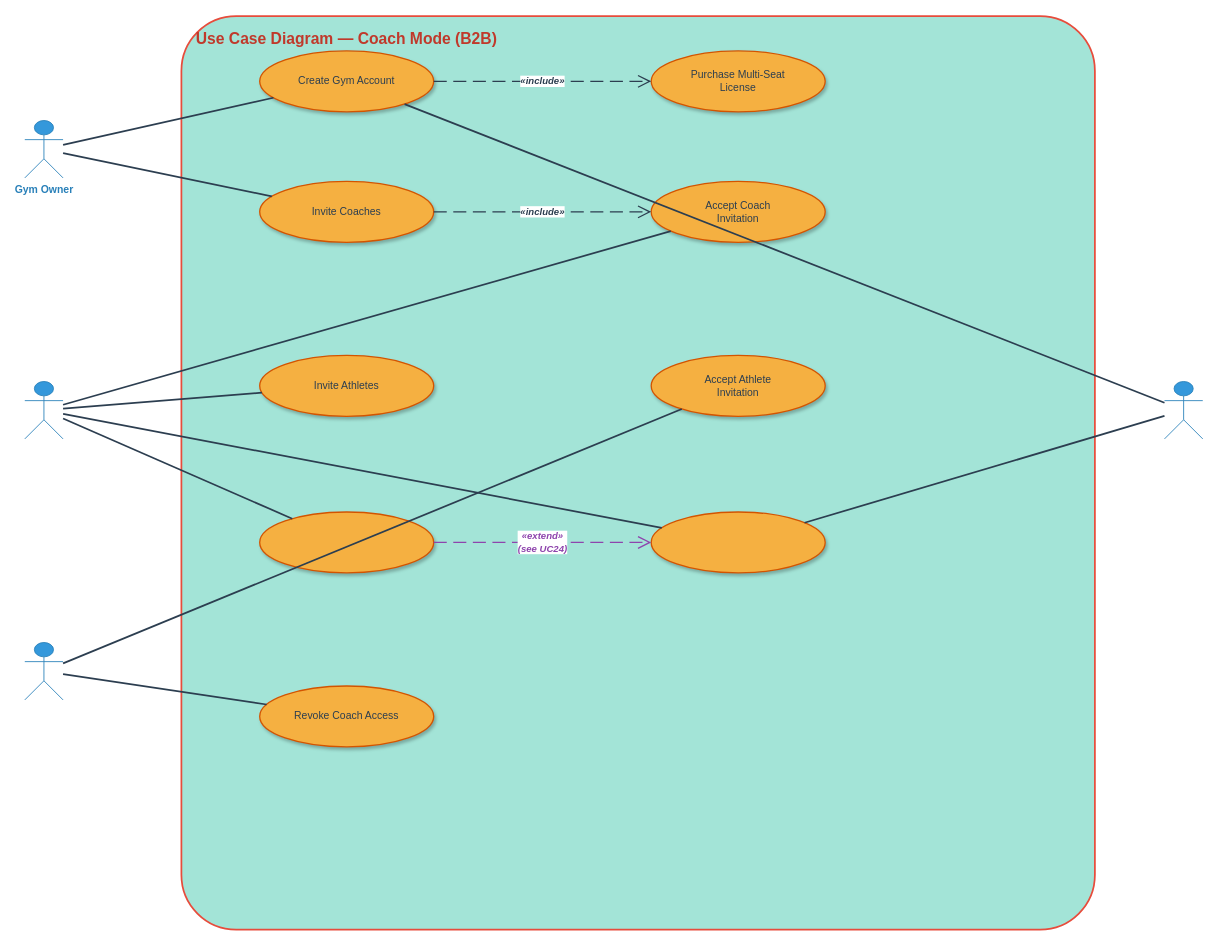
Image size: 1221x945. Some labels were removed from this diagram. The shapes that lost their labels are listed below. From the top down, each one's centre as x and y in pixels, then its label:
point (43, 410): Coach
point (1183, 410): Supabase Backend
point (347, 543): View Athlete Analytics
point (739, 543): Assign Workout Plan
point (43, 671): Athlete
